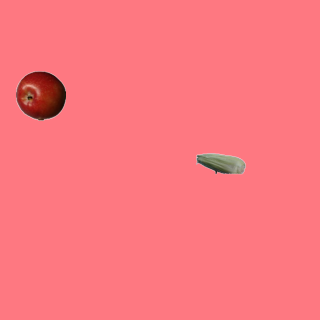Apple Braeburn: (15, 70, 65, 120)
Corn Husk: (195, 138, 245, 188)
